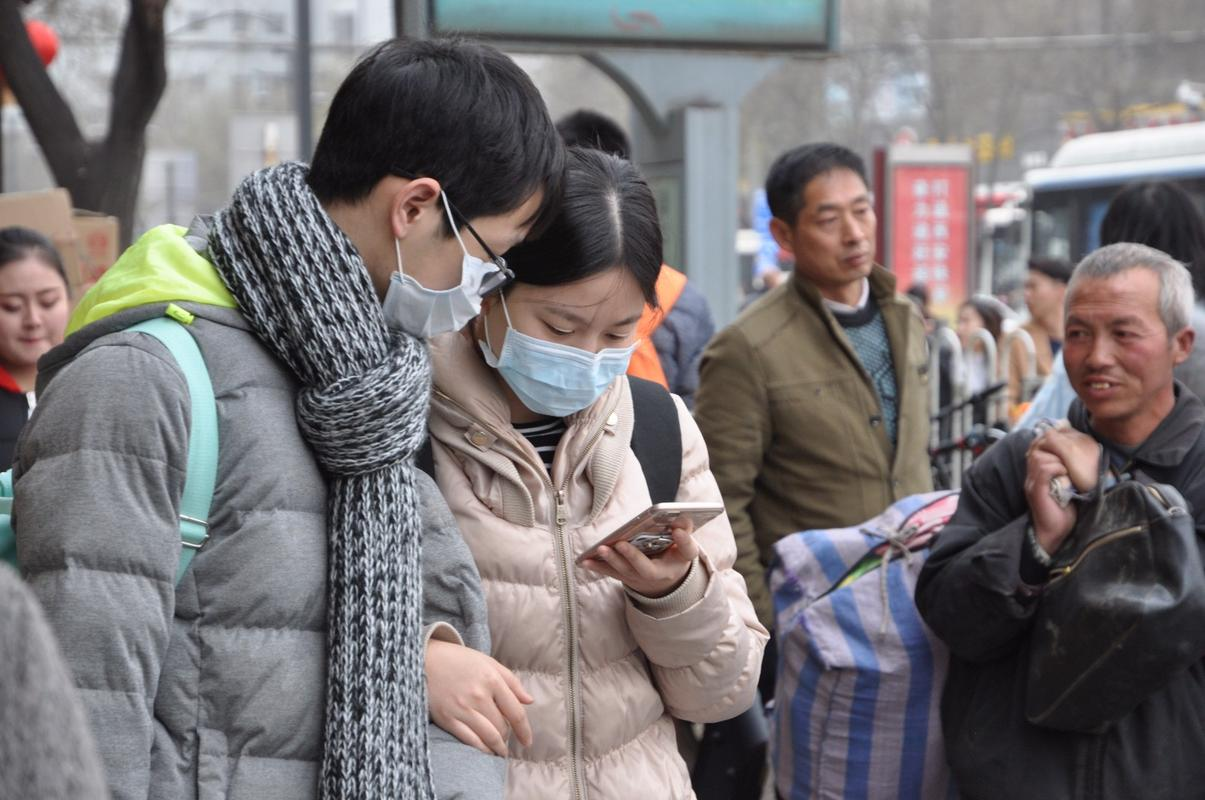mask: (483, 260, 653, 419)
no_mask: (1062, 259, 1173, 414), (793, 154, 881, 282)
